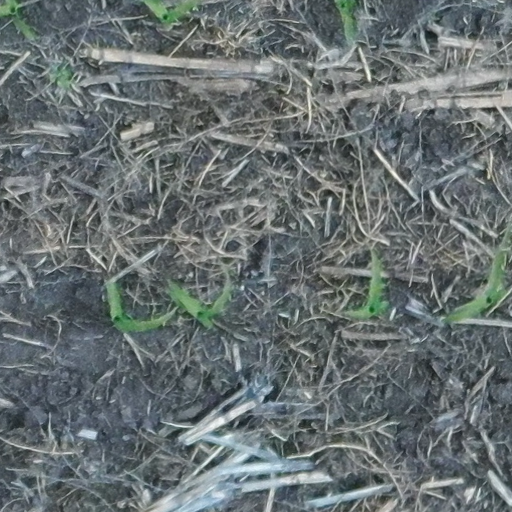planta: (105, 280, 176, 333), (169, 272, 231, 326), (348, 255, 387, 319)
